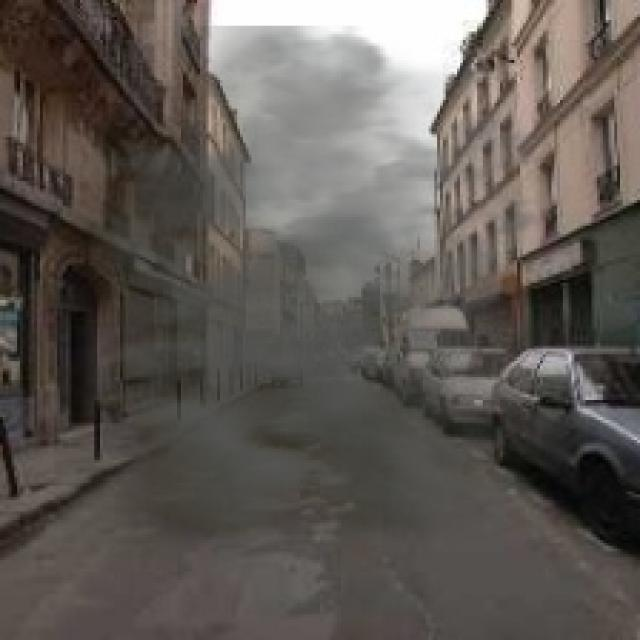Smoke: (54, 26, 603, 574)
